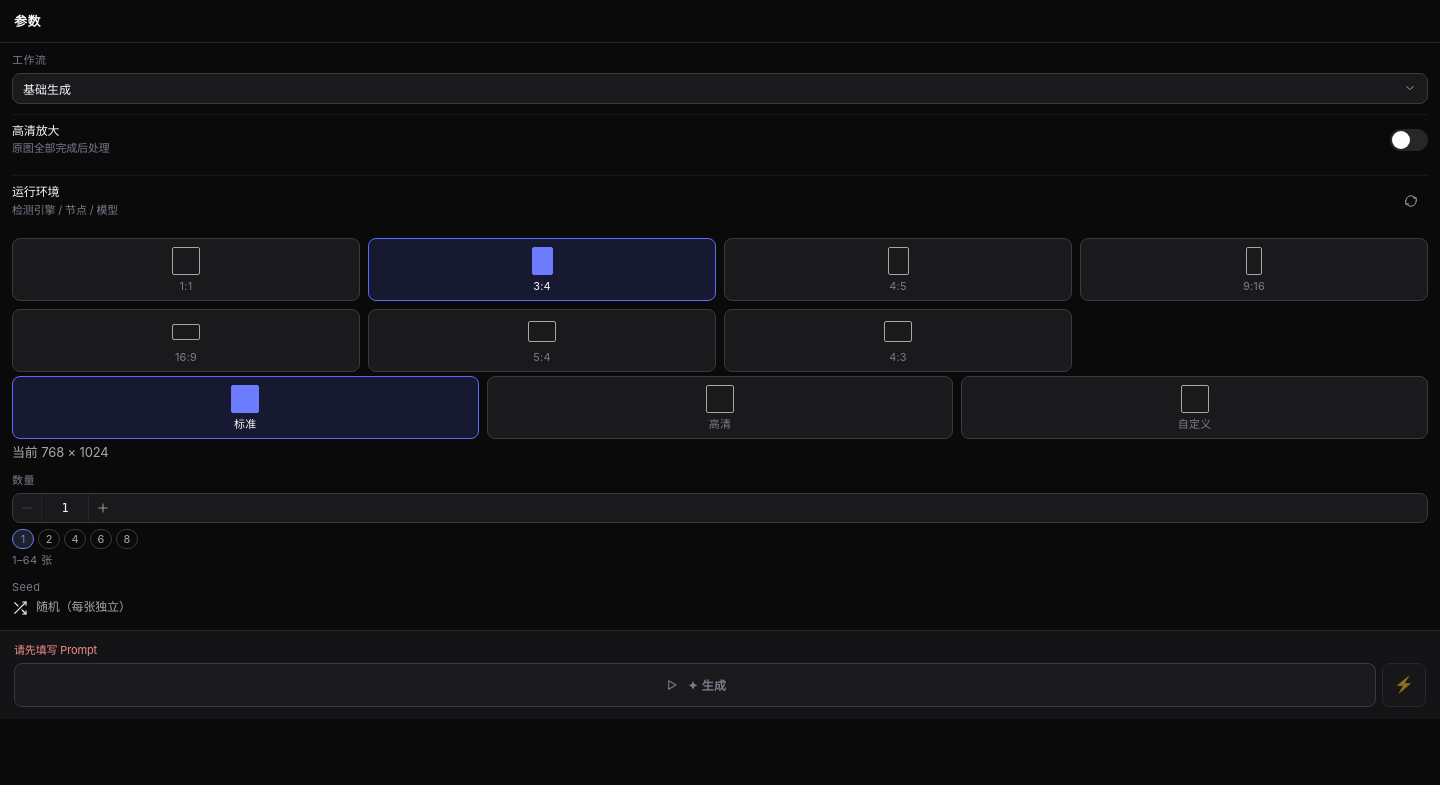
Test: W2.0 Runtime Preflight UI › UNKNOWN：显示离线/无法验证原因
This screenshot has width=1440, height=785.
Click the button named "检查运行环境" at (1411, 201), box [1394,184,1428,218]
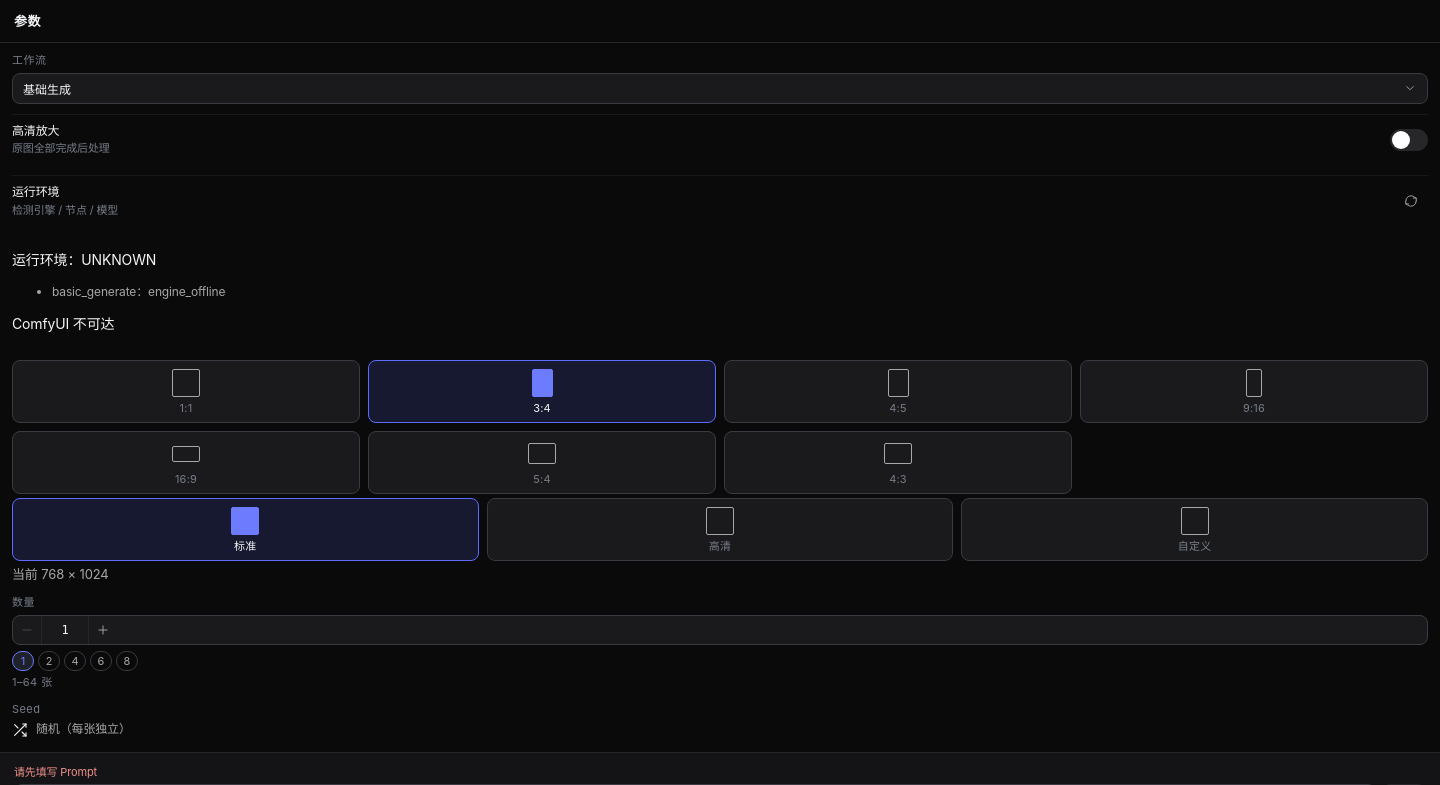
Result: the message with test id "runtime-preflight-status" shows "UNKNOWN" at [81,251,156,268]
Result: the list with test id "runtime-preflight-details" shows "engine_offline" at [148,284,225,298]
